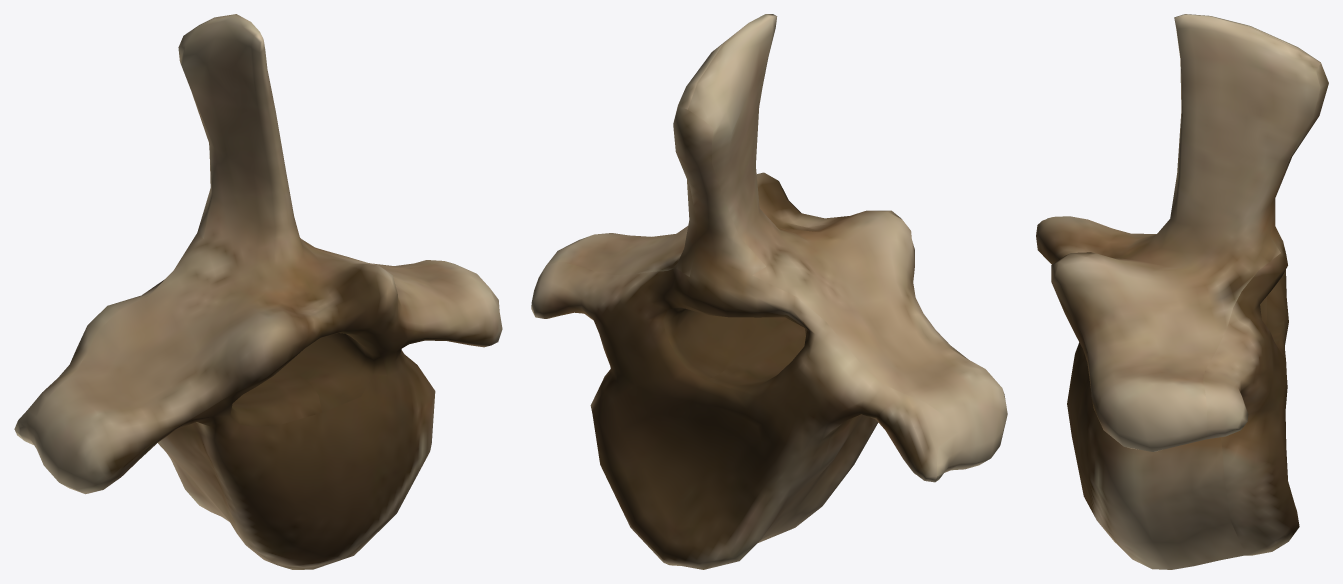
File: Thoracic_Vertebrae12.glb
3 views of the same model, side by side, from view 1: azimuth 30°, elevation 25°; view 2: azimuth 150°, elevation 25°; view 3: azimuth 270°, elevation 25° (orthographic). The views are drawn at different scales.
Visible parts, largest first — view 1: polySurface240; view 2: polySurface240; view 3: polySurface240.
Boxes of the visible parts, left/top/right/bottom form: polySurface240: left=14, top=14, right=502, bottom=569; polySurface240: left=531, top=14, right=1007, bottom=569; polySurface240: left=1036, top=14, right=1328, bottom=569.
Bounding box in the file's own units: 0.1149 × 0.135 × 0.0681.
Materials: 1 (1 with a texture image).
